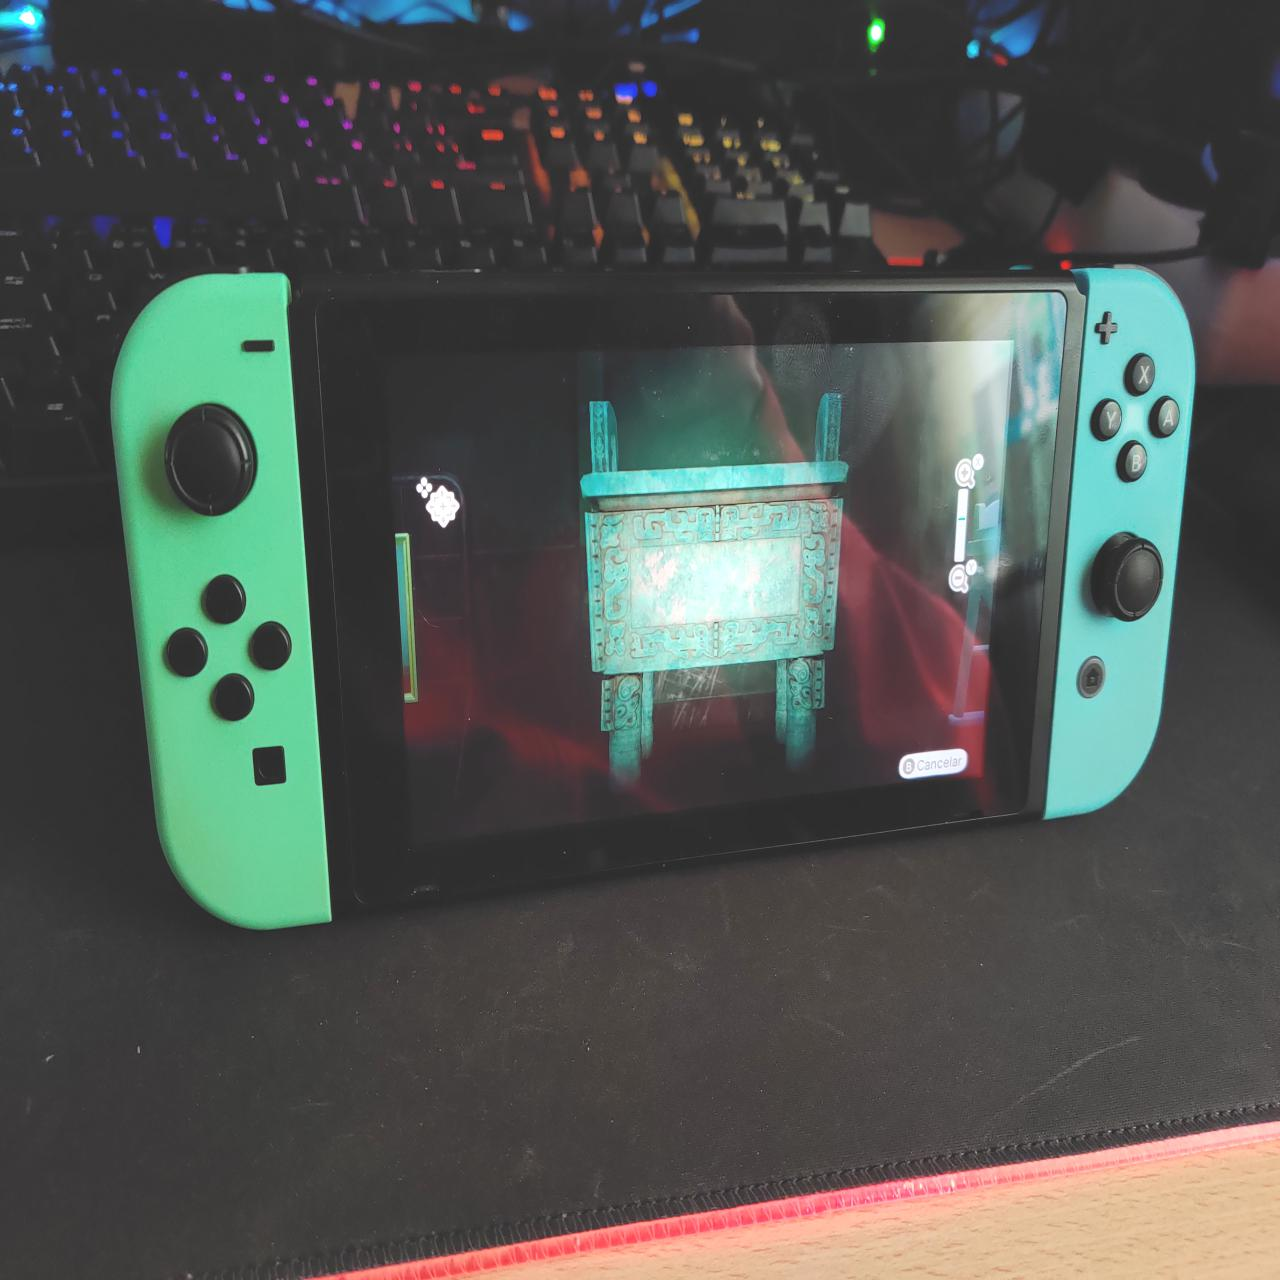HoumuwuDing: (577, 387, 855, 791)
